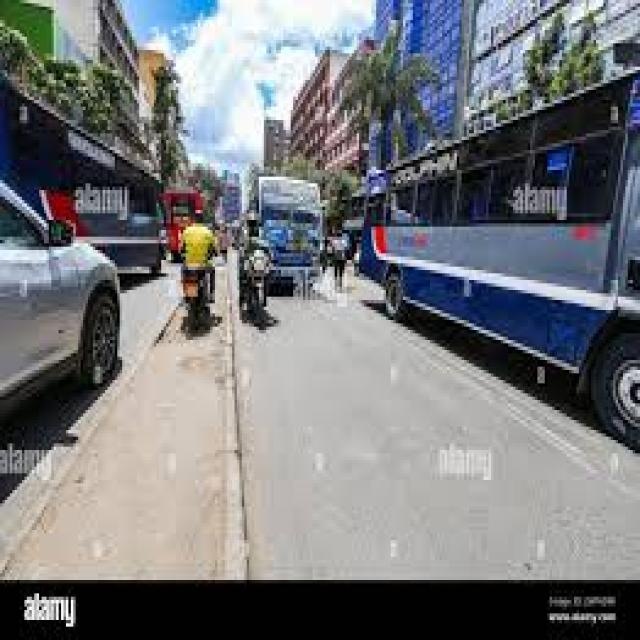bodaboda: (168, 185, 224, 345), (231, 193, 271, 335)
bus: (355, 68, 640, 450), (108, 118, 174, 300), (270, 170, 338, 302)
